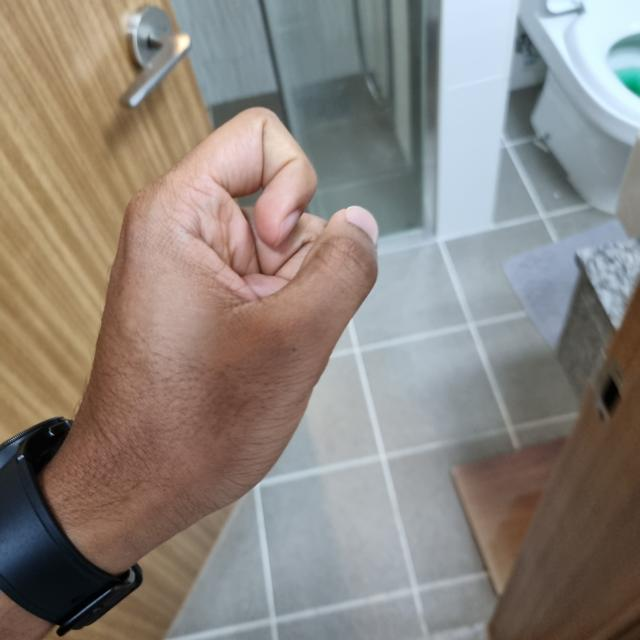Rock: (74, 105, 381, 517)
